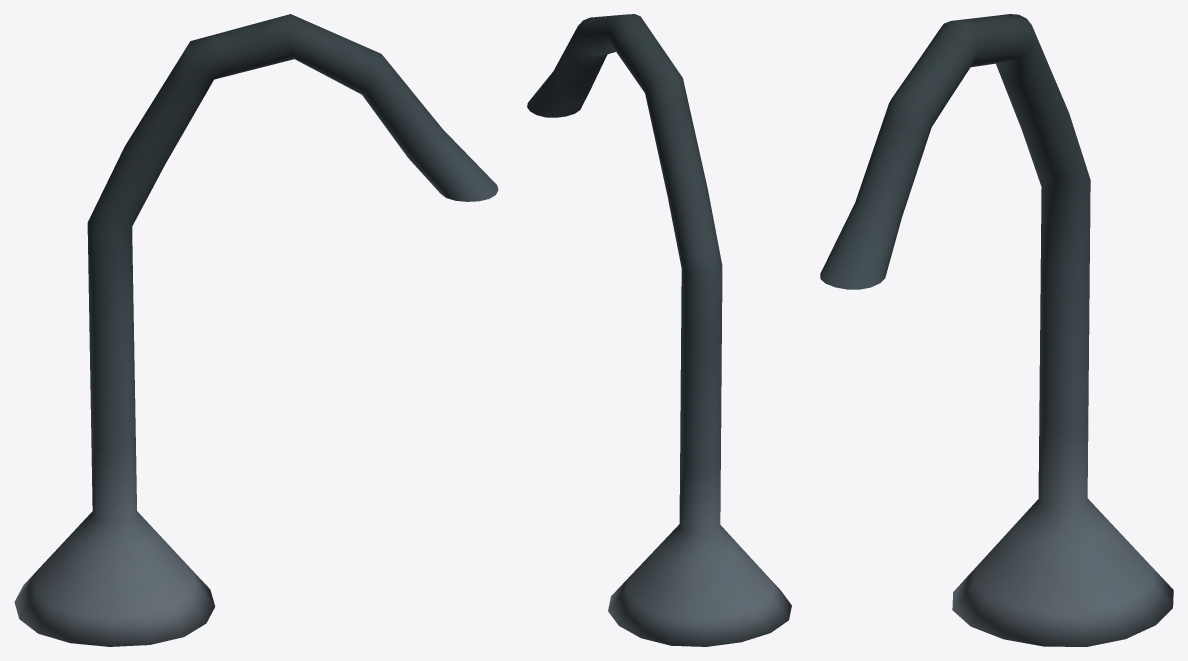
Rendered from FBX_StandLamp.fbx.
3 views of the same model, side by side, from view 1: azimuth 30°, elevation 25°; view 2: azimuth 150°, elevation 25°; view 3: azimuth 270°, elevation 25° (orthographic). The views are drawn at different scales.
Parts seen in each view (by area): view 1: LampStand_geo; view 2: LampStand_geo; view 3: LampStand_geo.
Part boxes in pixels (x1,y1,x2,y2): LampStand_geo: [14, 14, 498, 646]; LampStand_geo: [527, 14, 791, 646]; LampStand_geo: [820, 14, 1173, 646].
Bounding box in the file's own units: 94.62 × 144 × 71.42.
Materials: 1 (1 with a texture image).
